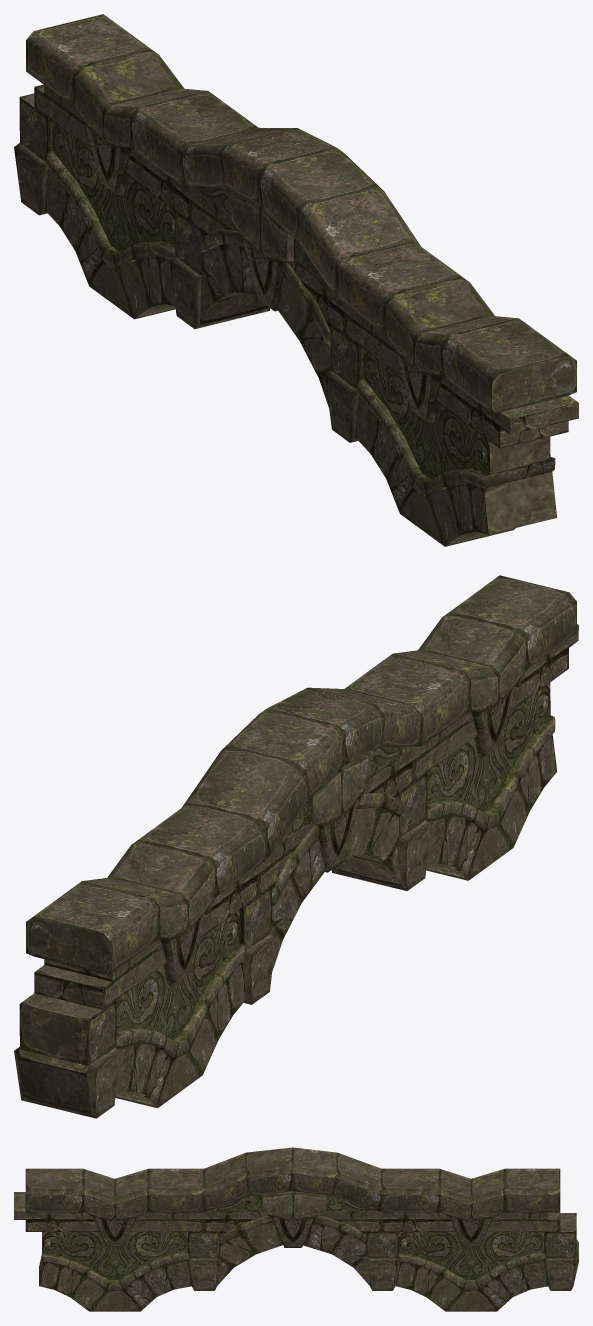
The model's file is Arch_Alley_08-transformed.glb.
The picture shows the model from 3 angles, top to bottom: view 1: azimuth 30°, elevation 25°; view 2: azimuth 150°, elevation 25°; view 3: azimuth 270°, elevation 25°; orthographic projection. The views are drawn at different scales.
Parts seen in each view (by area): view 1: default; view 2: default; view 3: default.
Boxes of the visible parts, x1,y1,x2,y2 form: default: (14,14,578,546); default: (14,575,578,1118); default: (14,1147,578,1311).
Bounding box in the file's own units: 0.9471 × 2.69 × 9.51.
1 material, 1 textured.
